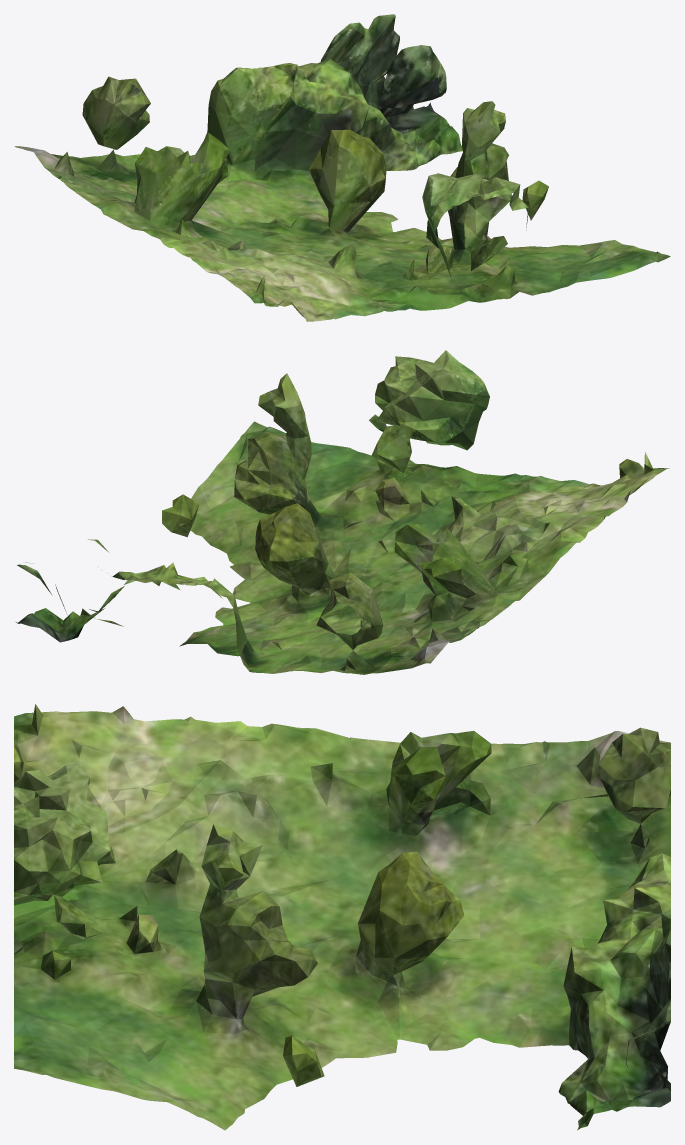
3 views of the same model, one above another, from view 1: azimuth 30°, elevation 25°; view 2: azimuth 150°, elevation 25°; view 3: azimuth 270°, elevation 25° (orthographic). The views are drawn at different scales.
Size of the model in its own units: 26.11 by 10.36 by 26.11.
Materials: 4 (4 with a texture image).
